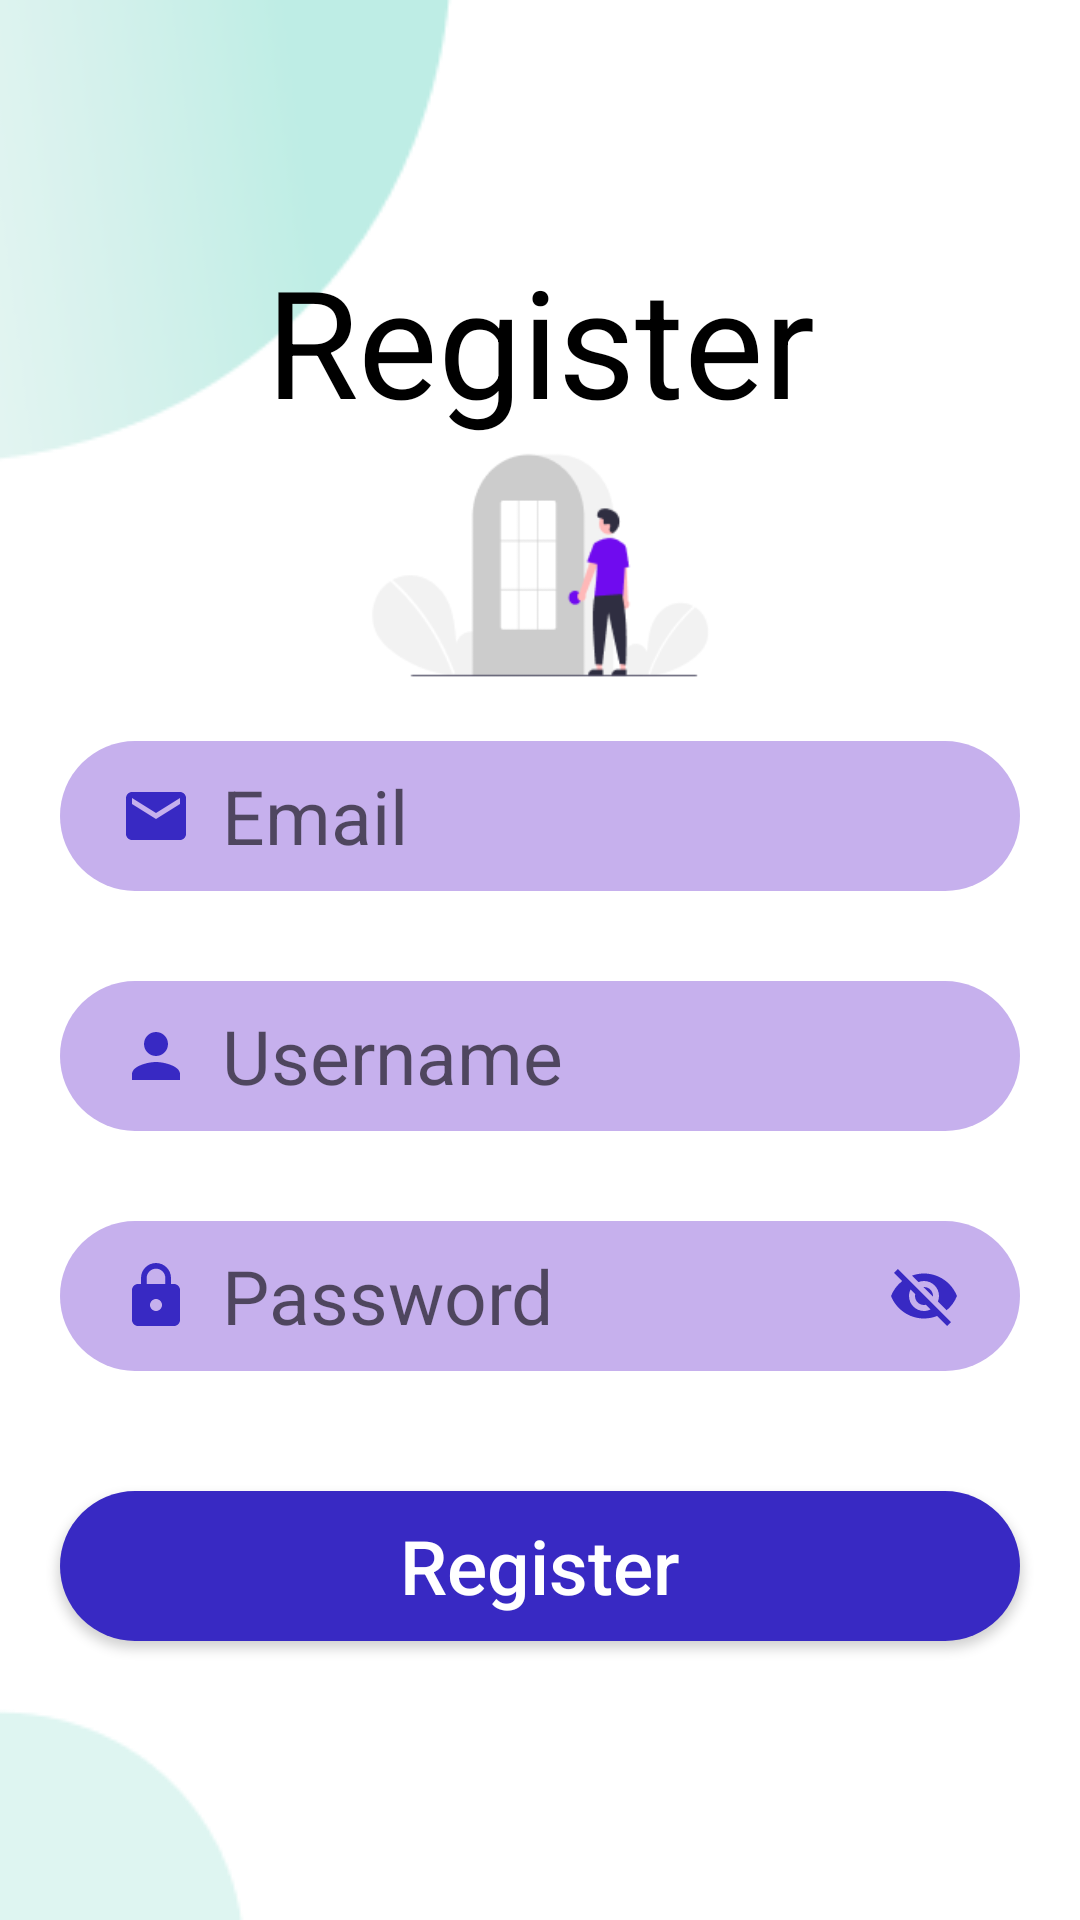

Icons on this 1080×1920 Android screen, each with the point to tap as point (x, y):
visibility off: point (924, 1297)
